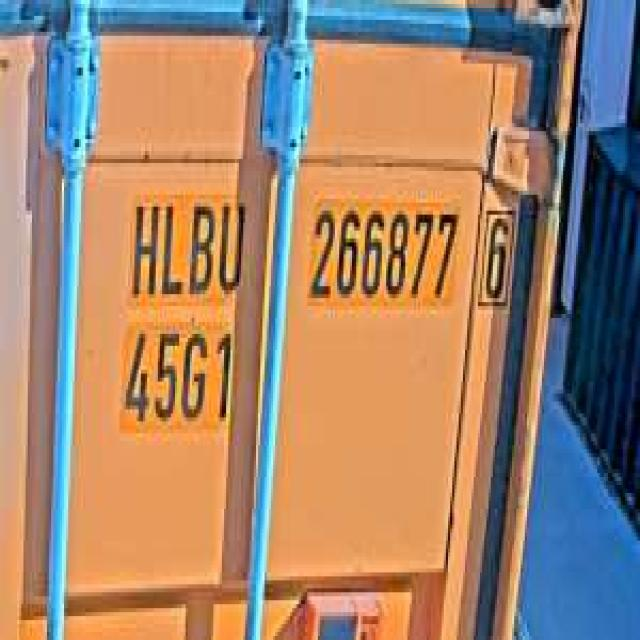dv: (476, 191, 518, 318)
owner: (123, 191, 250, 302)
serial: (303, 195, 459, 314)
size: (117, 318, 239, 433)
